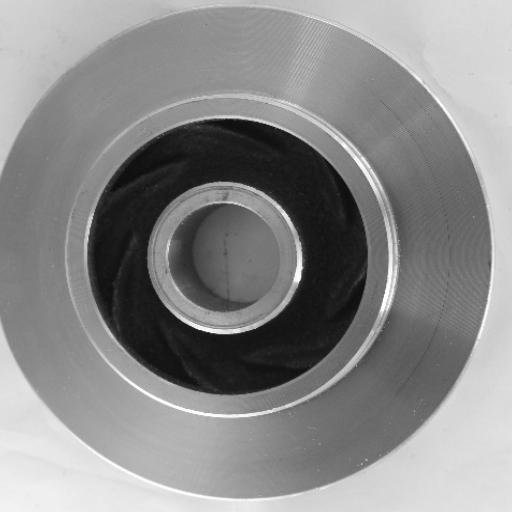polished_casting: (0, 6, 493, 498)
